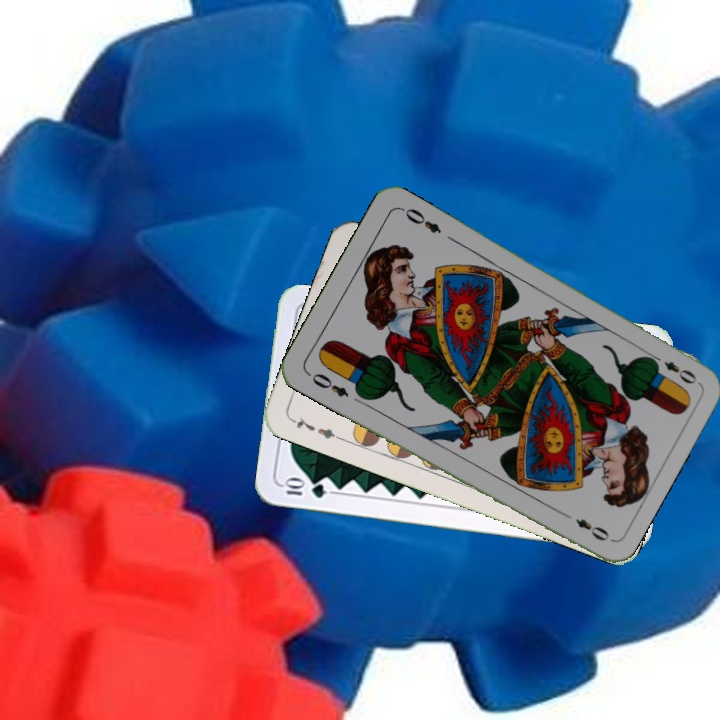E7: (287, 413, 344, 443)
EO: (646, 350, 700, 387), (303, 369, 352, 400)
G10: (279, 476, 328, 501)
